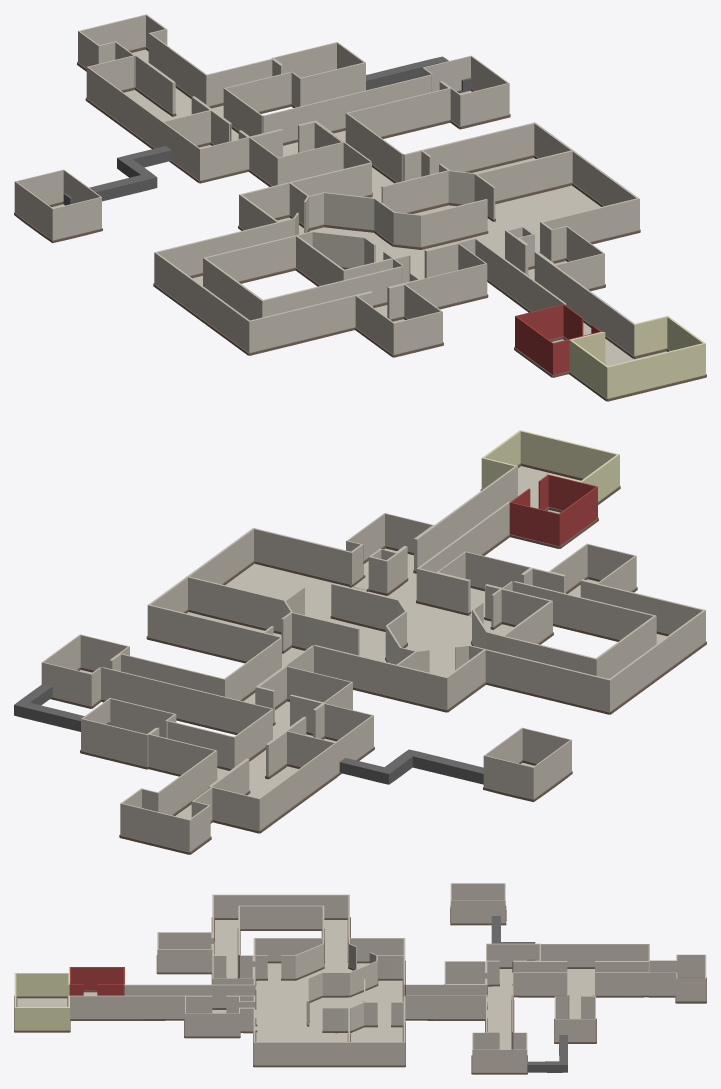
Rendered from level_organised_03.fbx.
The picture shows the model from 3 angles, top to bottom: view 1: azimuth 30°, elevation 25°; view 2: azimuth 150°, elevation 25°; view 3: azimuth 270°, elevation 25°; orthographic projection. The views are drawn at different scales.
Visible parts, largest first — view 1: polySurface142, polySurface120, polySurface130, polySurface247, polySurface128, polySurface95, polySurface111, polySurface251, polySurface238, polySurface119, polySurface135, polySurface285 (+57 smaller); view 2: polySurface142, polySurface247, polySurface126, polySurface119, polySurface120, polySurface128, polySurface516, polySurface135, polySurface238, polySurface111, polySurface95, polySurface285 (+52 smaller); view 3: polySurface142, polySurface122, polySurface111, polySurface128, polySurface143, polySurface243, polySurface285, polySurface514, polySurface99, polySurface192, polySurface202, polySurface168 (+40 smaller).
Part boxes in pixels (x1=…): polySurface142: x1=193, y1=158, x2=666, y2=366; polySurface120: x1=403, y1=122, x2=534, y2=180; polySurface130: x1=249, y1=291, x2=371, y2=355; polySurface247: x1=263, y1=74, x2=431, y2=145; polySurface128: x1=153, y1=252, x2=249, y2=355; polySurface95: x1=607, y1=343, x2=706, y2=401; polySurface111: x1=534, y1=252, x2=634, y2=358; polySurface251: x1=346, y1=88, x2=450, y2=138; polySurface238: x1=474, y1=150, x2=573, y2=204; polySurface119: x1=238, y1=162, x2=372, y2=225; polySurface135: x1=262, y1=266, x2=402, y2=317; polySurface285: x1=85, y1=67, x2=162, y2=149; polySurface142: x1=187, y1=466, x2=666, y2=676; polySurface247: x1=101, y1=667, x2=272, y2=734; polySurface126: x1=485, y1=649, x2=609, y2=714; polySurface119: x1=314, y1=645, x2=447, y2=712; polySurface120: x1=147, y1=604, x2=281, y2=667; polySurface128: x1=609, y1=610, x2=706, y2=714; polySurface516: x1=253, y1=528, x2=351, y2=586; polySurface135: x1=512, y1=581, x2=655, y2=641; polySurface238: x1=186, y1=576, x2=286, y2=634; polySurface111: x1=414, y1=466, x2=517, y2=573; polySurface95: x1=520, y1=430, x2=618, y2=480; polySurface285: x1=259, y1=743, x2=337, y2=833; polySurface142: x1=17, y1=920, x2=402, y2=1041; polySurface122: x1=253, y1=1042, x2=405, y2=1067; polySurface111: x1=69, y1=995, x2=211, y2=1020; polySurface128: x1=213, y1=894, x2=349, y2=919; polySurface143: x1=239, y1=905, x2=323, y2=930; polySurface243: x1=405, y1=995, x2=486, y2=1020; polySurface285: x1=541, y1=944, x2=648, y2=968; polySurface514: x1=123, y1=984, x2=255, y2=1009; polySurface99: x1=14, y1=1007, x2=69, y2=1032; polySurface192: x1=472, y1=1049, x2=527, y2=1074; polySurface202: x1=157, y1=949, x2=212, y2=974; polySurface168: x1=185, y1=1013, x2=239, y2=1038.
Size of the model in its own units: 12.87 by 0.8857 by 22.51.
